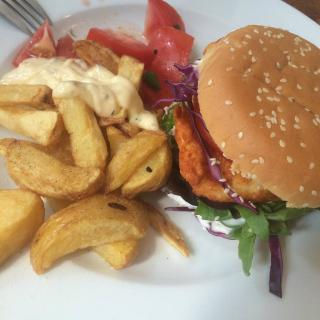French fries: (18, 196, 150, 279), (2, 133, 107, 201), (101, 118, 180, 198), (96, 126, 172, 195), (59, 85, 106, 172), (0, 187, 42, 280), (141, 188, 189, 259), (0, 108, 66, 148), (0, 80, 57, 108)
Hamburger: (153, 24, 320, 295)
Potato: (0, 39, 189, 275)
